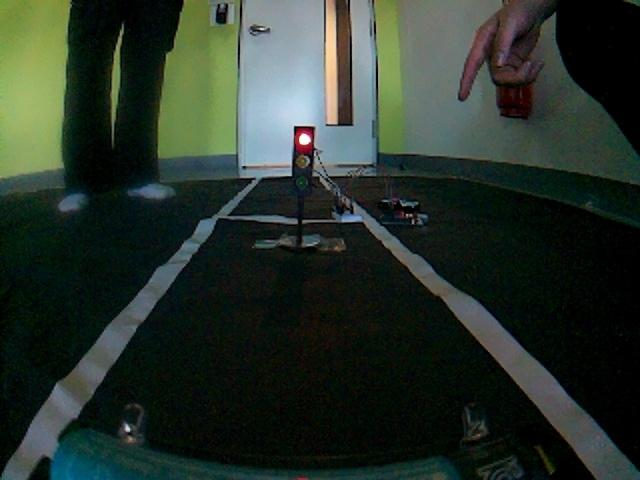go: (6, 307, 633, 480)
red_light: (207, 106, 375, 297)
